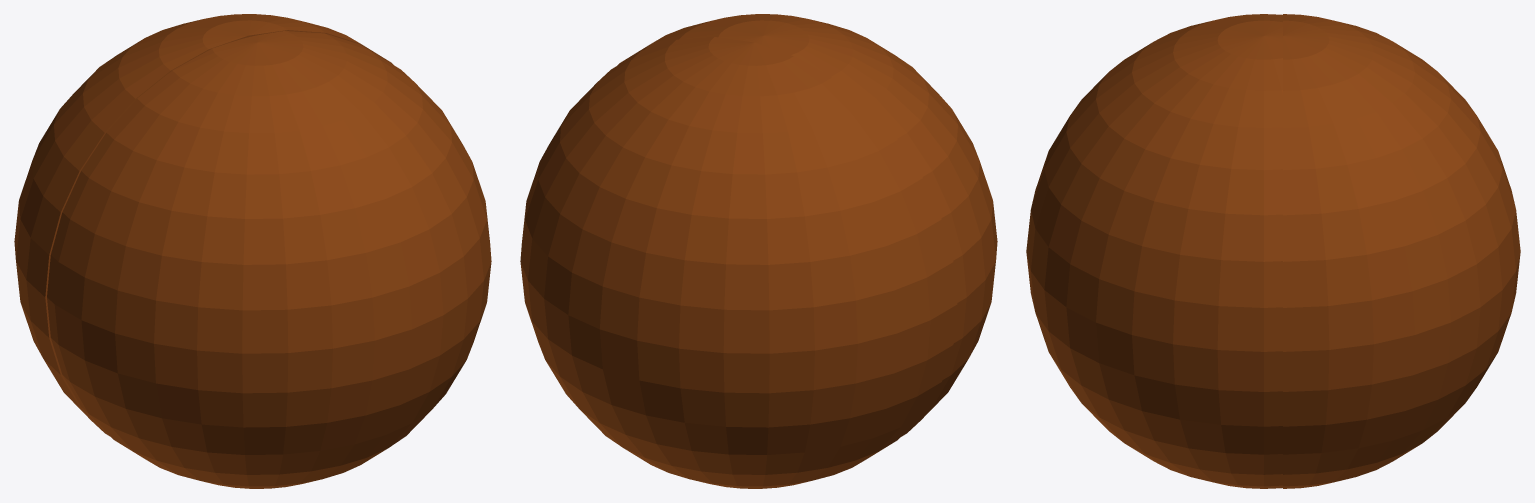
Rendered from Kiwi.fbx.
The picture shows the model from 3 angles, left to right: view 1: azimuth 30°, elevation 25°; view 2: azimuth 150°, elevation 25°; view 3: azimuth 270°, elevation 25°; orthographic projection.
Parts seen in each view (by area): view 1: OrangeSliced, OrangeSliced.001, Sphere.001; view 2: OrangeSliced.001, OrangeSliced, Sphere.001; view 3: OrangeSliced, OrangeSliced.001, Sphere.001.
Boxes of the visible parts, x1,y1,x2,y2 form: OrangeSliced: (54, 37, 491, 488); OrangeSliced.001: (14, 14, 393, 436); Sphere.001: (47, 31, 369, 439); OrangeSliced.001: (520, 37, 957, 488); OrangeSliced: (651, 14, 997, 430); Sphere.001: (617, 30, 966, 436); OrangeSliced: (1026, 14, 1263, 488); OrangeSliced.001: (1283, 14, 1520, 488); Sphere.001: (1264, 14, 1282, 488).
Size of the model in its own units: 200 by 200 by 208.
